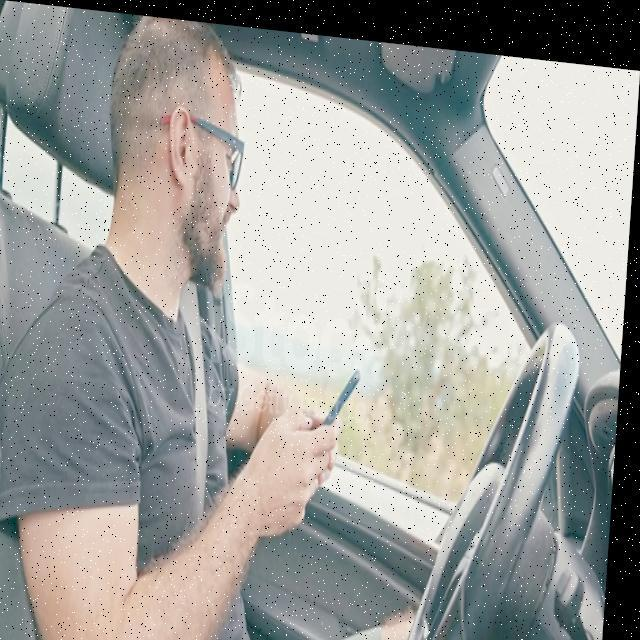PhoneCall: (319, 357, 364, 435)
